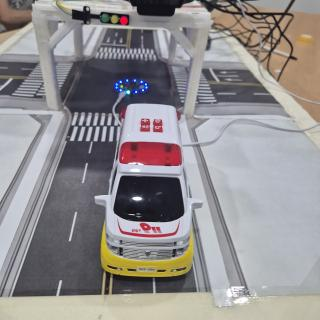Ambulance: (95, 104, 203, 277)
